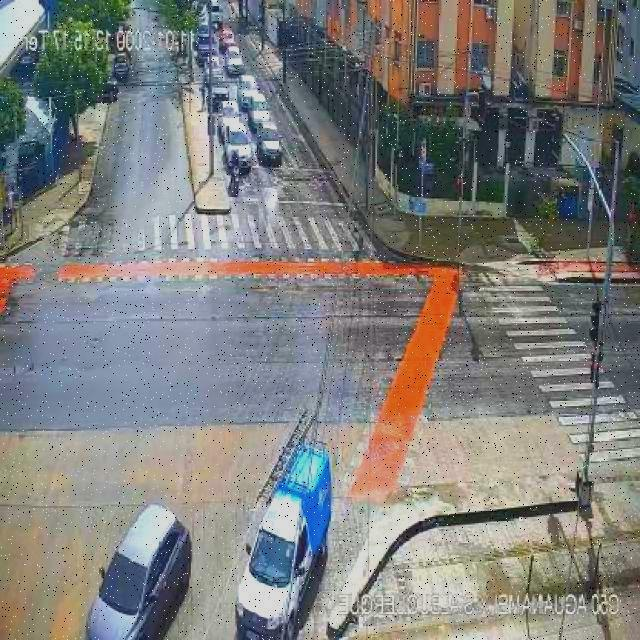Car: (85, 502, 192, 638), (222, 126, 256, 172), (254, 126, 282, 164), (248, 108, 274, 133), (242, 90, 266, 115), (197, 31, 216, 62), (237, 74, 258, 98), (224, 48, 243, 73), (113, 55, 130, 82), (208, 1, 224, 27)
Truck: (235, 441, 332, 637)
